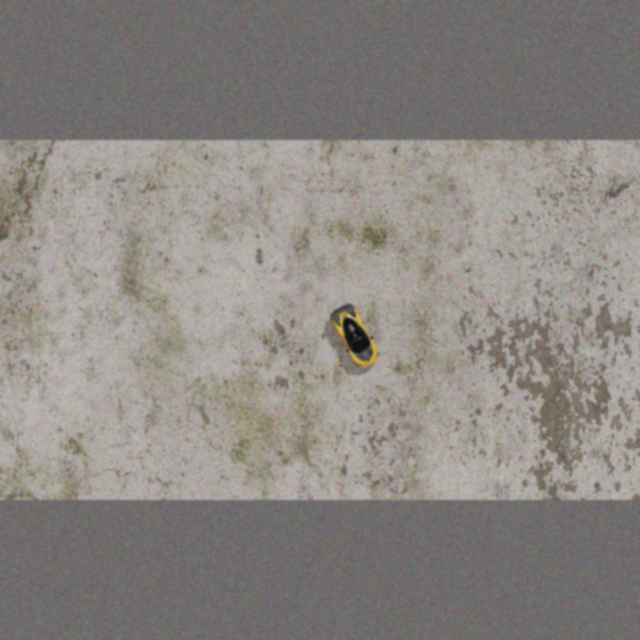car: (326, 299, 386, 373)
